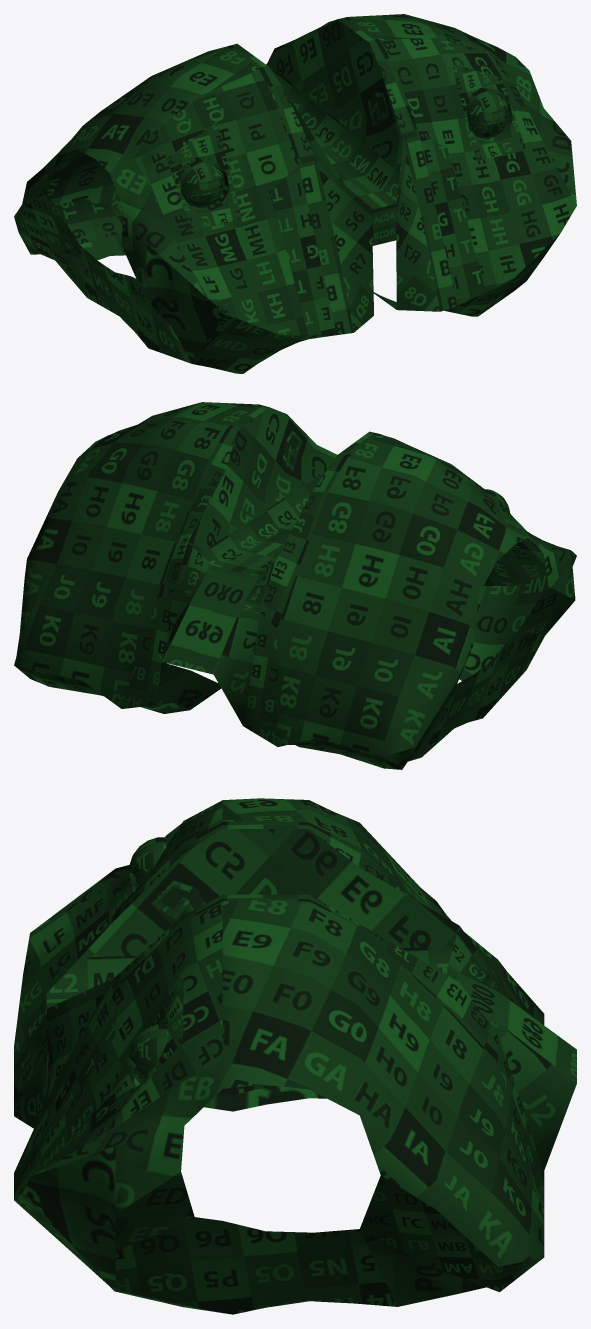
The model's file is TORSO_01.fbx.
3 renders of one model, top to bottom at view 1: azimuth 30°, elevation 25°; view 2: azimuth 150°, elevation 25°; view 3: azimuth 270°, elevation 25°, orthographic. The views are drawn at different scales.
Visible parts, largest first — view 1: pCylinder4; view 2: pCylinder4; view 3: pCylinder4.
Boxes of the visible parts, x1,y1,x2,y2 form: pCylinder4: (14,14,576,373); pCylinder4: (14,402,576,769); pCylinder4: (14,798,576,1314).
Bounding box in the file's own units: 2.44 × 1.43 × 2.05.
1 material, 1 textured.
